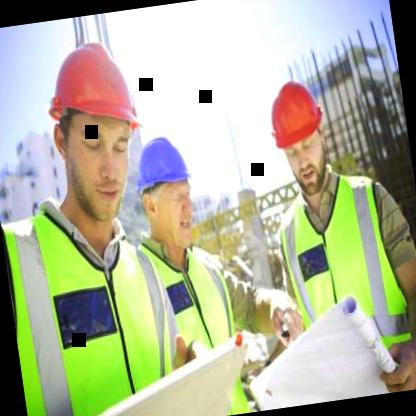helmet: (27, 22, 160, 230), (122, 118, 212, 263), (258, 68, 338, 203)
